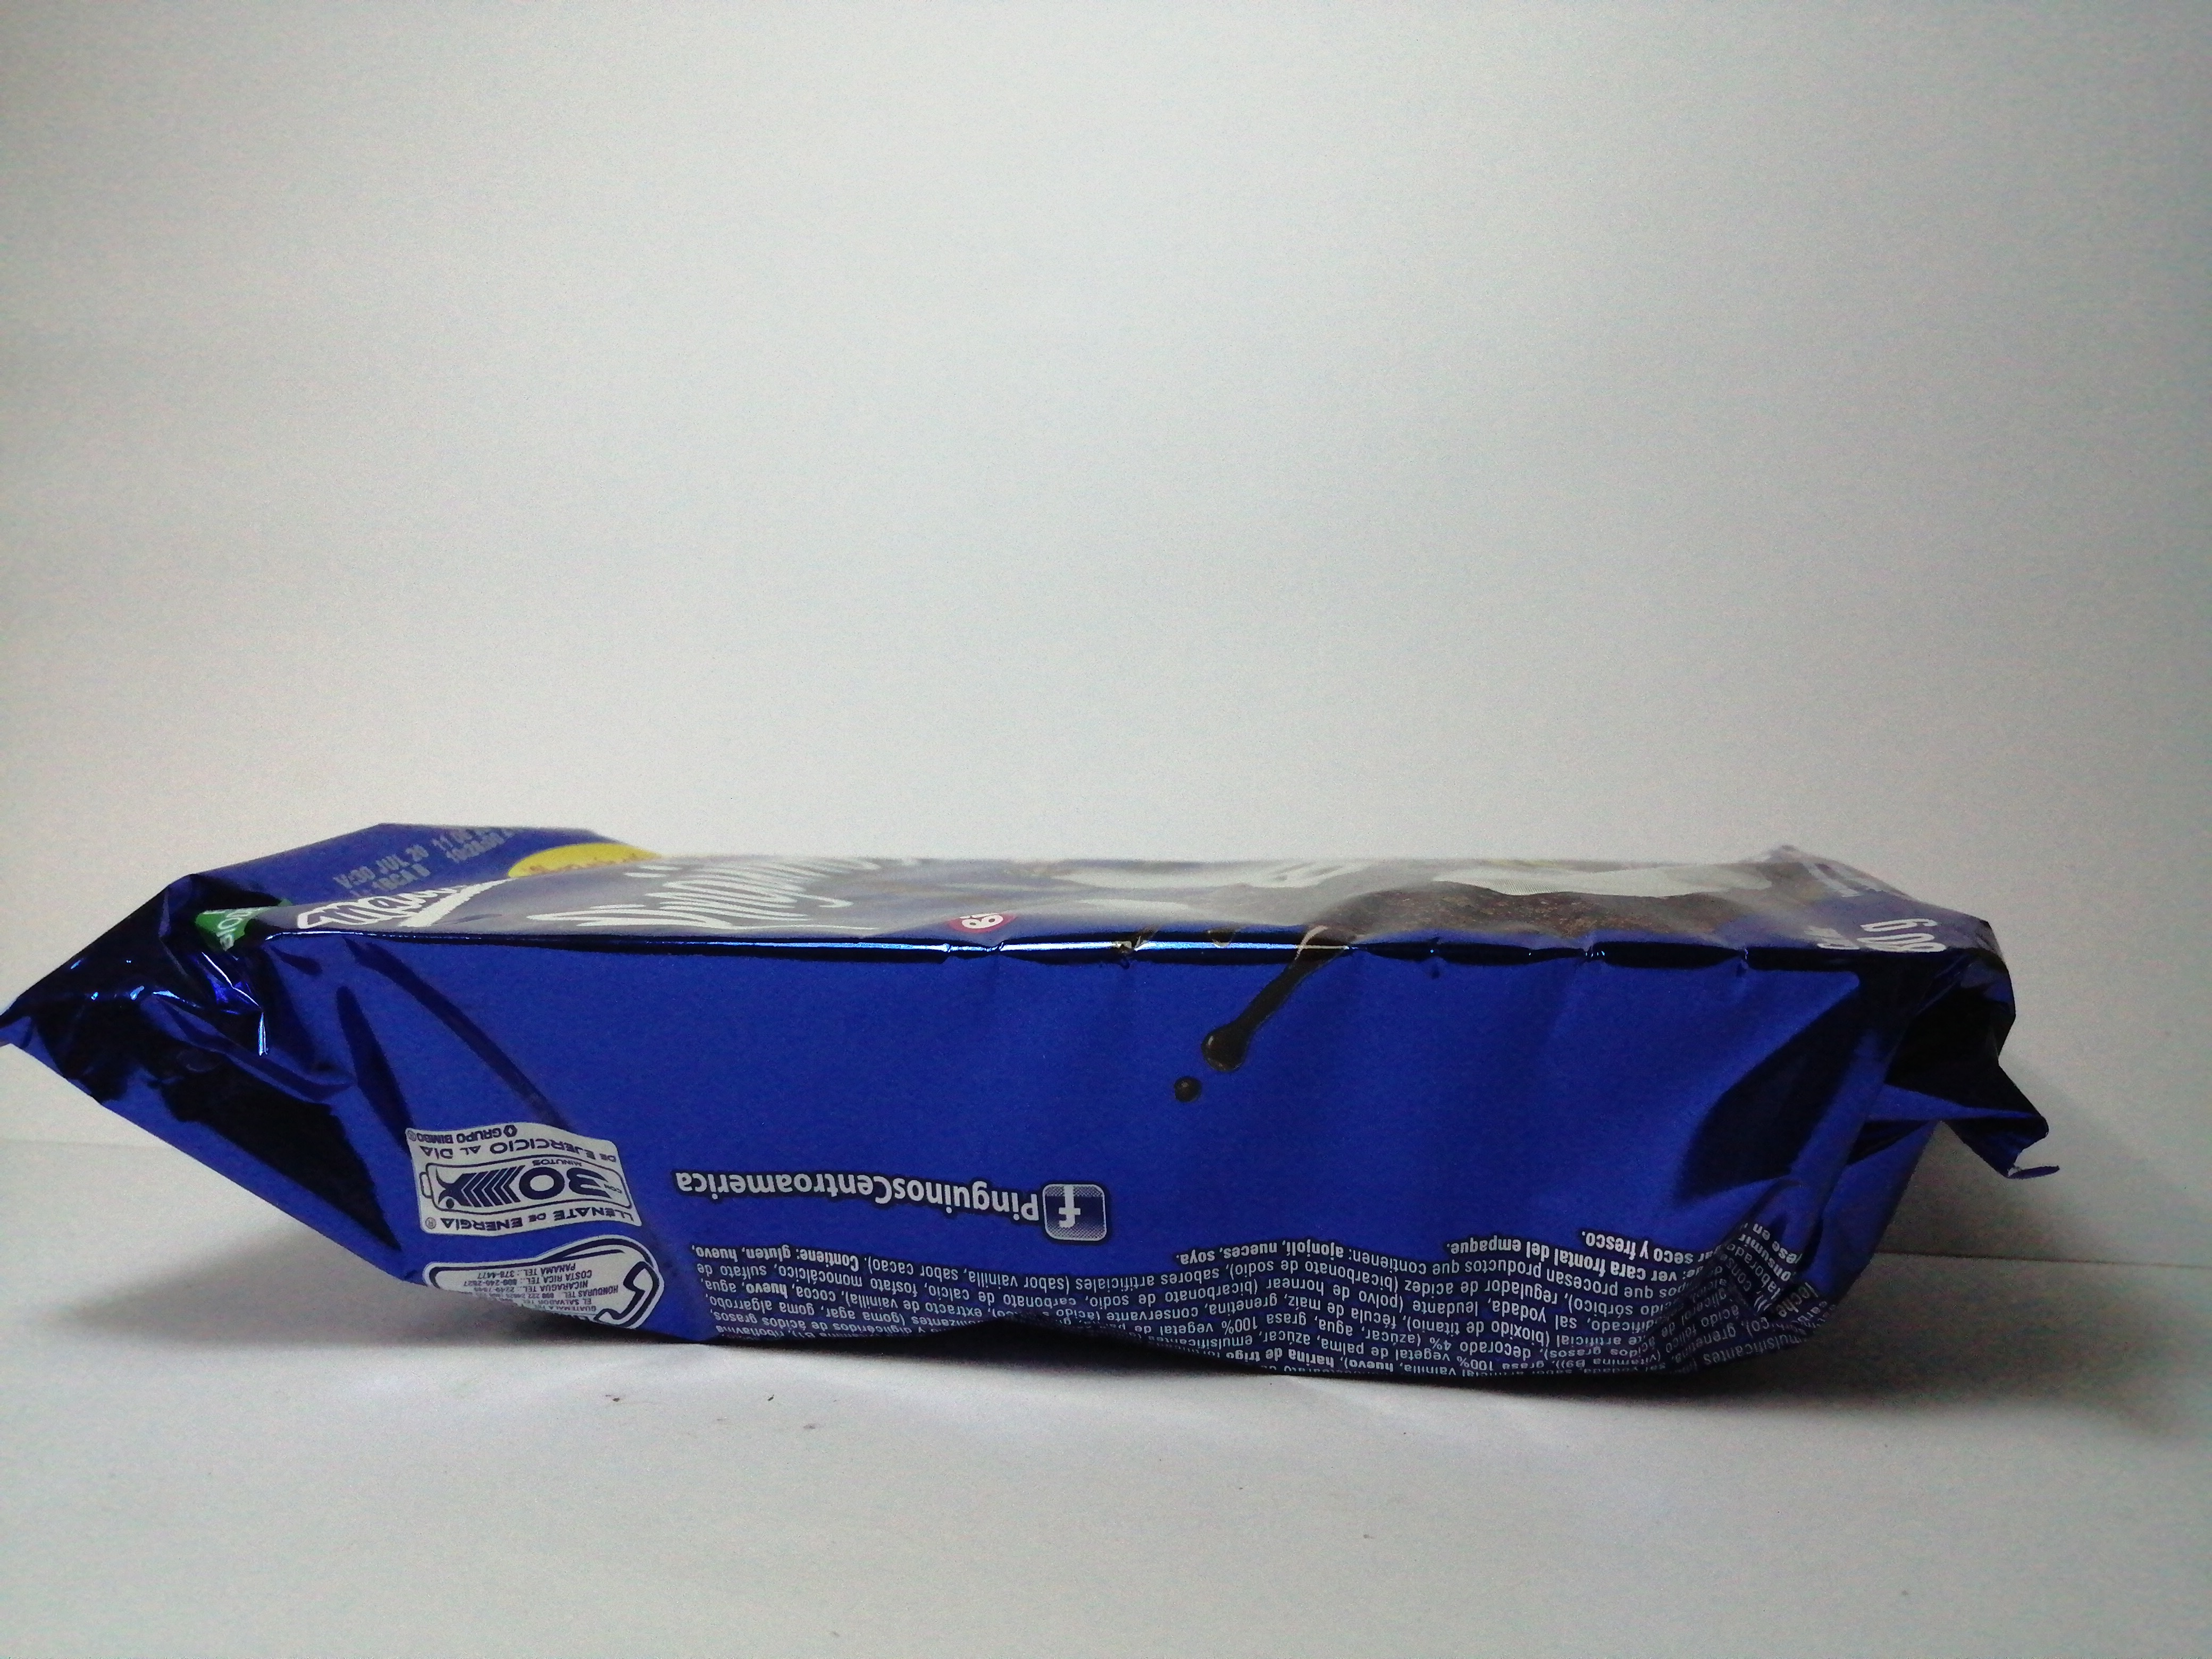pinguino: (12, 824, 2043, 1387)
